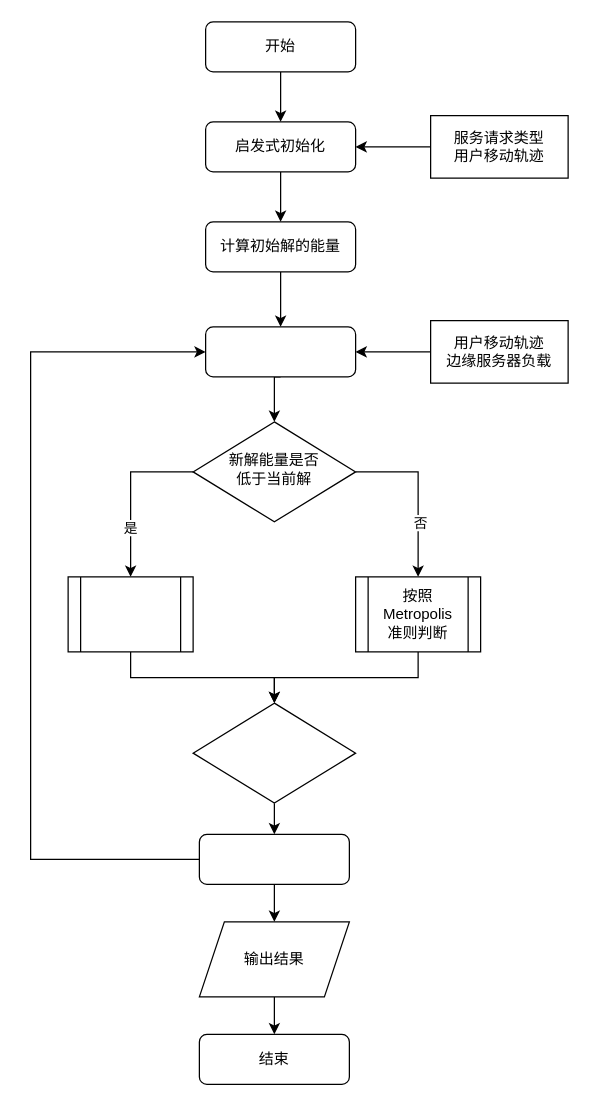
The diagram is 590 pixels wide and 1106 high, and some of its shapes have lost their labels. The shapes that lost their labels are listed below. From the top down, each one's centre as x and y in pixels, then its label:
At [280,351]: "对当前解进行扰动".
At [130,614]: "接受新解".
At [274,752]: "满足迭代次数或 温度低于阈值".
At [273,858]: "降低温度".
